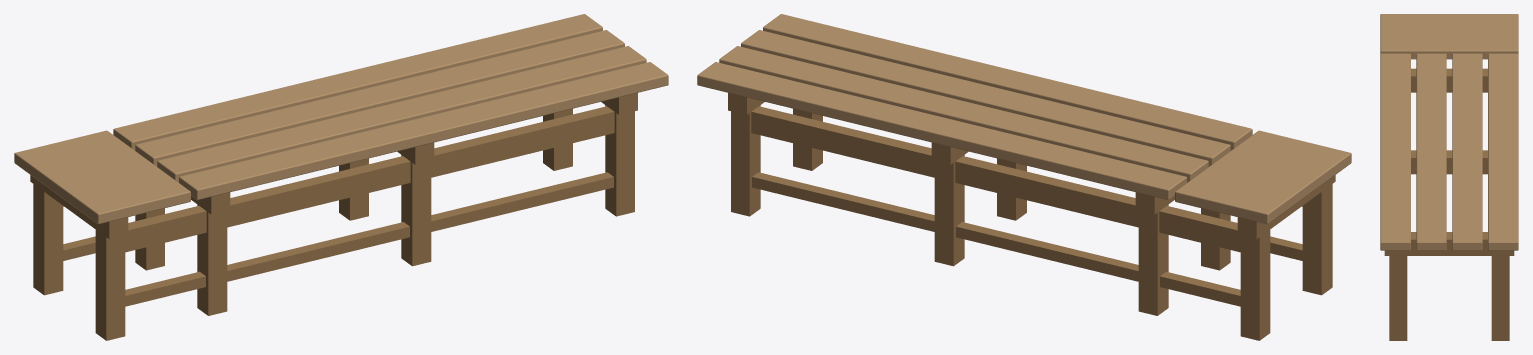
The model's file is parametric-wet-steam-bench-1st.glb.
3 views of the same model, side by side, from view 1: azimuth 30°, elevation 25°; view 2: azimuth 150°, elevation 25°; view 3: azimuth 270°, elevation 25° (orthographic). The views are drawn at different scales.
Visible parts, largest first — view 1: parametric-wet-steam-bench-1st:seat-slat:3, parametric-wet-steam-bench-1st:longitudinal-rail:1, parametric-wet-steam-bench-1st:seat-slat:0, parametric-wet-steam-bench-1st:seat-slat:1, parametric-wet-steam-bench-1st:seat-slat:2, parametric-wet-steam-bench-1st:linen-end-board, parametric-wet-steam-bench-1st:low-stretcher:1, parametric-wet-steam-bench-1st:leg:0:1, parametric-wet-steam-bench-1st:leg:0:0, parametric-wet-steam-bench-1st:leg:2:1, parametric-wet-steam-bench-1st:leg:1:1, parametric-wet-steam-bench-1st:leg:3:1 (+8 smaller); view 2: parametric-wet-steam-bench-1st:seat-slat:0, parametric-wet-steam-bench-1st:longitudinal-rail:0, parametric-wet-steam-bench-1st:seat-slat:2, parametric-wet-steam-bench-1st:seat-slat:3, parametric-wet-steam-bench-1st:seat-slat:1, parametric-wet-steam-bench-1st:linen-end-board, parametric-wet-steam-bench-1st:low-stretcher:0, parametric-wet-steam-bench-1st:leg:0:0, parametric-wet-steam-bench-1st:leg:0:1, parametric-wet-steam-bench-1st:leg:2:0, parametric-wet-steam-bench-1st:leg:1:0, parametric-wet-steam-bench-1st:leg:3:0 (+8 smaller); view 3: parametric-wet-steam-bench-1st:seat-slat:0, parametric-wet-steam-bench-1st:seat-slat:3, parametric-wet-steam-bench-1st:seat-slat:1, parametric-wet-steam-bench-1st:seat-slat:2, parametric-wet-steam-bench-1st:linen-end-board, parametric-wet-steam-bench-1st:leg:3:0, parametric-wet-steam-bench-1st:leg:3:1, parametric-wet-steam-bench-1st:cross-rail:3, parametric-wet-steam-bench-1st:cross-rail:1, parametric-wet-steam-bench-1st:cross-rail:2, parametric-wet-steam-bench-1st:longitudinal-rail:1, parametric-wet-steam-bench-1st:longitudinal-rail:0.
Part boxes in pixels (x1,y1,x2,y2): parametric-wet-steam-bench-1st:seat-slat:3: (179, 62, 668, 200); parametric-wet-steam-bench-1st:longitudinal-rail:1: (97, 106, 614, 254); parametric-wet-steam-bench-1st:seat-slat:0: (113, 14, 602, 150); parametric-wet-steam-bench-1st:seat-slat:1: (135, 30, 624, 166); parametric-wet-steam-bench-1st:seat-slat:2: (157, 46, 646, 182); parametric-wet-steam-bench-1st:linen-end-board: (14, 130, 190, 224); parametric-wet-steam-bench-1st:low-stretcher:1: (97, 172, 613, 308); parametric-wet-steam-bench-1st:leg:0:1: (95, 230, 125, 340); parametric-wet-steam-bench-1st:leg:0:0: (33, 184, 63, 295); parametric-wet-steam-bench-1st:leg:2:1: (401, 155, 431, 266); parametric-wet-steam-bench-1st:leg:1:1: (197, 204, 227, 315); parametric-wet-steam-bench-1st:leg:3:1: (605, 105, 634, 216); parametric-wet-steam-bench-1st:seat-slat:0: (697, 62, 1186, 200); parametric-wet-steam-bench-1st:longitudinal-rail:0: (751, 106, 1266, 256); parametric-wet-steam-bench-1st:seat-slat:2: (741, 30, 1230, 166); parametric-wet-steam-bench-1st:seat-slat:3: (763, 14, 1252, 150); parametric-wet-steam-bench-1st:seat-slat:1: (719, 46, 1208, 182); parametric-wet-steam-bench-1st:linen-end-board: (1175, 130, 1351, 224); parametric-wet-steam-bench-1st:low-stretcher:0: (752, 172, 1265, 311); parametric-wet-steam-bench-1st:leg:0:0: (1240, 230, 1270, 340); parametric-wet-steam-bench-1st:leg:0:1: (1302, 184, 1332, 295); parametric-wet-steam-bench-1st:leg:2:0: (934, 155, 964, 266); parametric-wet-steam-bench-1st:leg:1:0: (1138, 204, 1168, 315); parametric-wet-steam-bench-1st:leg:3:0: (731, 105, 760, 216); parametric-wet-steam-bench-1st:seat-slat:0: (1488, 53, 1518, 250); parametric-wet-steam-bench-1st:seat-slat:3: (1380, 53, 1410, 250); parametric-wet-steam-bench-1st:seat-slat:1: (1452, 53, 1482, 250); parametric-wet-steam-bench-1st:seat-slat:2: (1416, 53, 1446, 250); parametric-wet-steam-bench-1st:linen-end-board: (1380, 14, 1518, 59); parametric-wet-steam-bench-1st:leg:3:0: (1491, 256, 1509, 340); parametric-wet-steam-bench-1st:leg:3:1: (1389, 256, 1407, 340); parametric-wet-steam-bench-1st:cross-rail:3: (1384, 232, 1514, 255); parametric-wet-steam-bench-1st:cross-rail:1: (1411, 68, 1487, 92); parametric-wet-steam-bench-1st:cross-rail:2: (1411, 150, 1487, 174); parametric-wet-steam-bench-1st:longitudinal-rail:1: (1392, 256, 1404, 273); parametric-wet-steam-bench-1st:longitudinal-rail:0: (1494, 256, 1506, 273).
Bounding box in the file's own units: 1.96 × 0.44 × 0.5.
